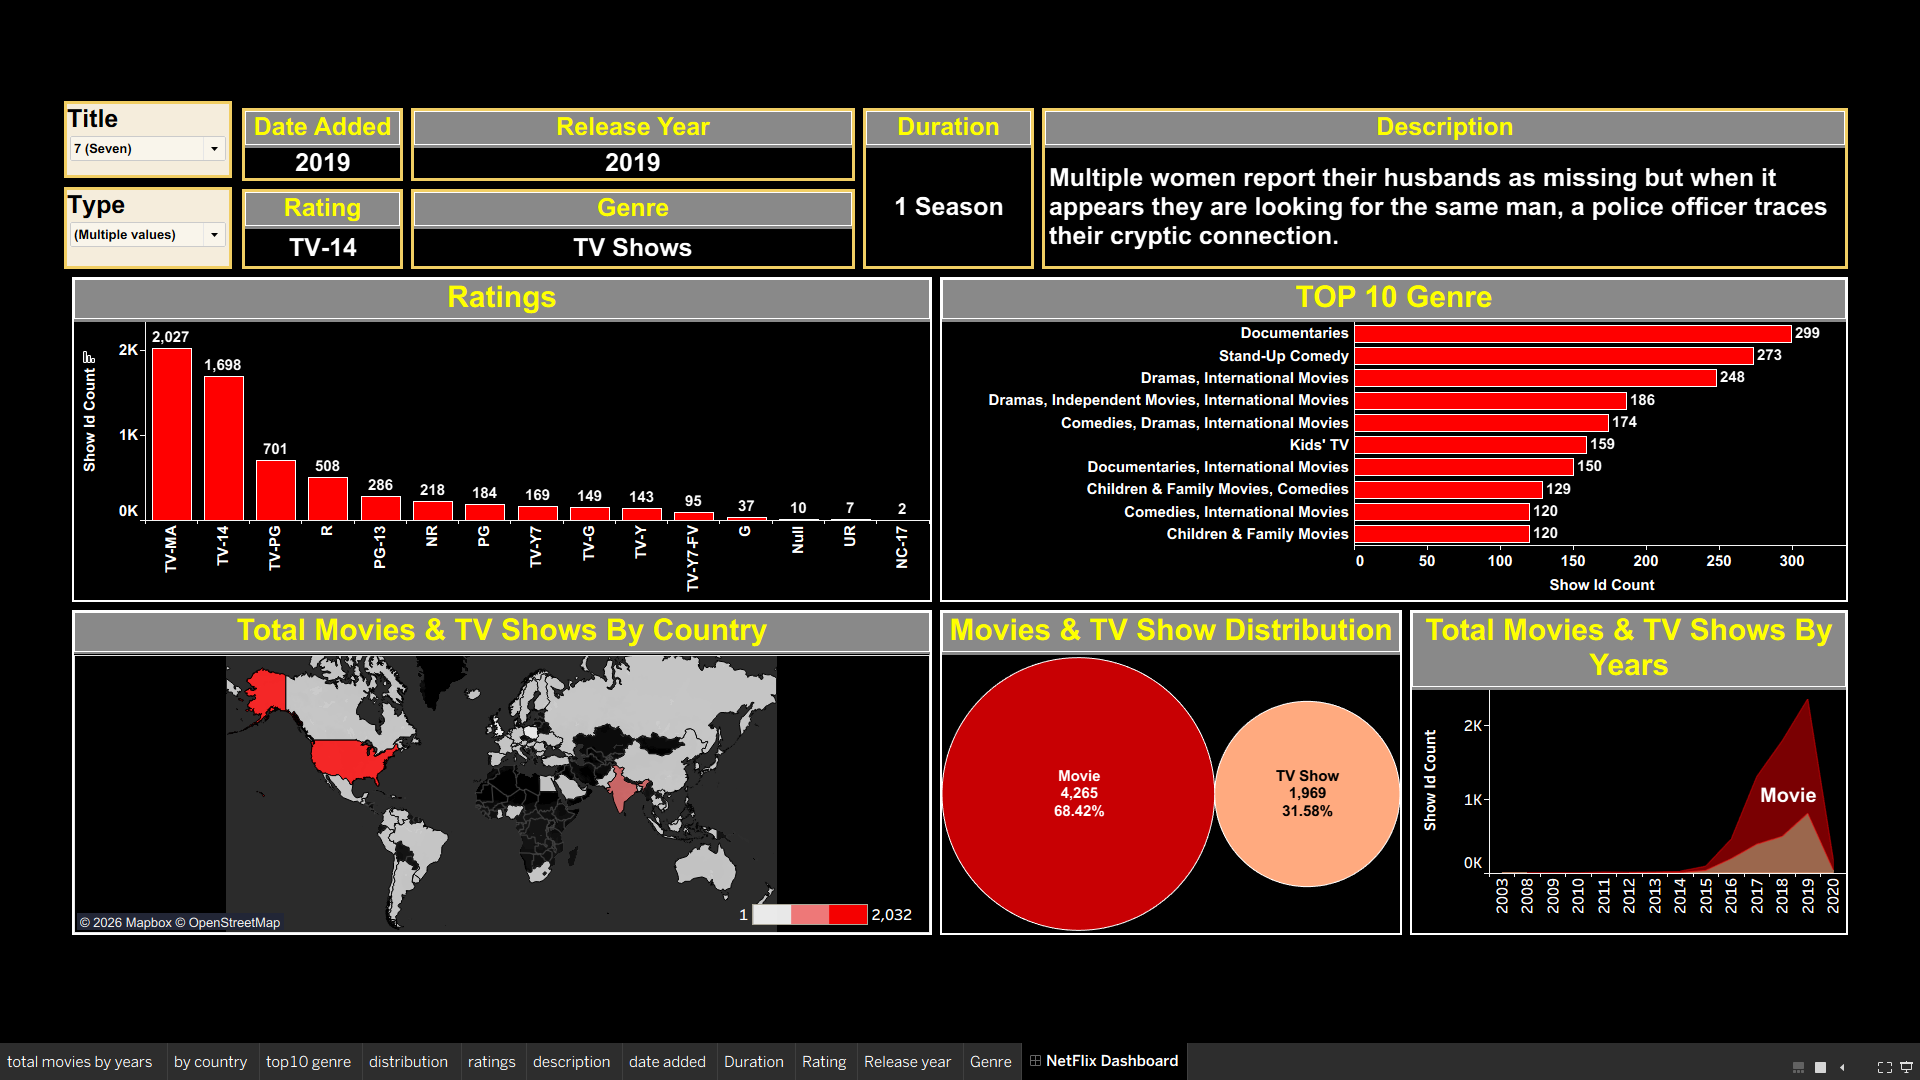

This screenshot's page, from the dashboard's own definition file:
{"tool":"tableau","page":{"name":"NetFlix Dashboard","canvas":[1800,851],"ordinal":0},"visuals":[{"type":"filter","title":"description","param":"[federated.1n6ecqt0j8nzuh1d3l29e0ntkho9].[none:title:nk]","box":[4,5,168,77]},{"type":"blank","box":[8,8,170,169]},{"type":"worksheet","title":"date added","mark":"Automatic","box":[178,8,169,81]},{"type":"worksheet","title":"Release year","mark":"Automatic","box":[347,8,452,81]},{"type":"worksheet","title":"Duration","mark":"Automatic","box":[799,8,179,169]},{"type":"worksheet","title":"description","mark":"Automatic","box":[978,8,814,169]},{"type":"worksheet","title":"Rating","mark":"Automatic","box":[178,89,169,88]},{"type":"worksheet","title":"Genre","mark":"Automatic","box":[347,89,452,88]},{"type":"filter","title":"description","param":"[federated.1n6ecqt0j8nzuh1d3l29e0ntkho9].[none:type:nk]","box":[4,91,168,82]},{"type":"worksheet","title":"ratings","mark":"Automatic","rows":["show_id"],"cols":["rating"],"box":[8,177,868,333]},{"type":"worksheet","title":"top10 genre","mark":"Automatic","rows":["listed_in"],"cols":["show_id"],"box":[876,177,916,333]},{"type":"worksheet","title":"by country","mark":"Multipolygon","box":[8,510,868,333]},{"type":"worksheet","title":"distribution","mark":"Circle","box":[876,510,469.9,333]},{"type":"worksheet","title":"total movies by years","mark":"Area","rows":["show_id"],"cols":["date_added"],"box":[1345.9,510,446.1,333]},{"type":"legend","title":"by country","param":"[federated.1n6ecqt0j8nzuh1d3l29e0ntkho9].[cnt:show_id:qk]","box":[675,804,182,43]}]}

Visuals, with their boxes on the page's 1800x851 design canvas (x1, y1, x2, y2). These are canvas units, not pixel positions in the 1920x1080 screenshot, which may show the page scaled, cropped or inside an application window:
"description" filter: bbox=[4, 5, 172, 82]
blank: bbox=[8, 8, 178, 177]
"date added" worksheet: bbox=[178, 8, 347, 89]
"Release year" worksheet: bbox=[347, 8, 799, 89]
"Duration" worksheet: bbox=[799, 8, 978, 177]
"description" worksheet: bbox=[978, 8, 1792, 177]
"Rating" worksheet: bbox=[178, 89, 347, 177]
"Genre" worksheet: bbox=[347, 89, 799, 177]
"description" filter: bbox=[4, 91, 172, 173]
"ratings" worksheet: bbox=[8, 177, 876, 510]
"top10 genre" worksheet: bbox=[876, 177, 1792, 510]
"by country" worksheet (Multipolygon marks): bbox=[8, 510, 876, 843]
"distribution" worksheet (Circle marks): bbox=[876, 510, 1346, 843]
"total movies by years" worksheet (Area marks): bbox=[1346, 510, 1792, 843]
"by country" legend: bbox=[675, 804, 857, 847]
